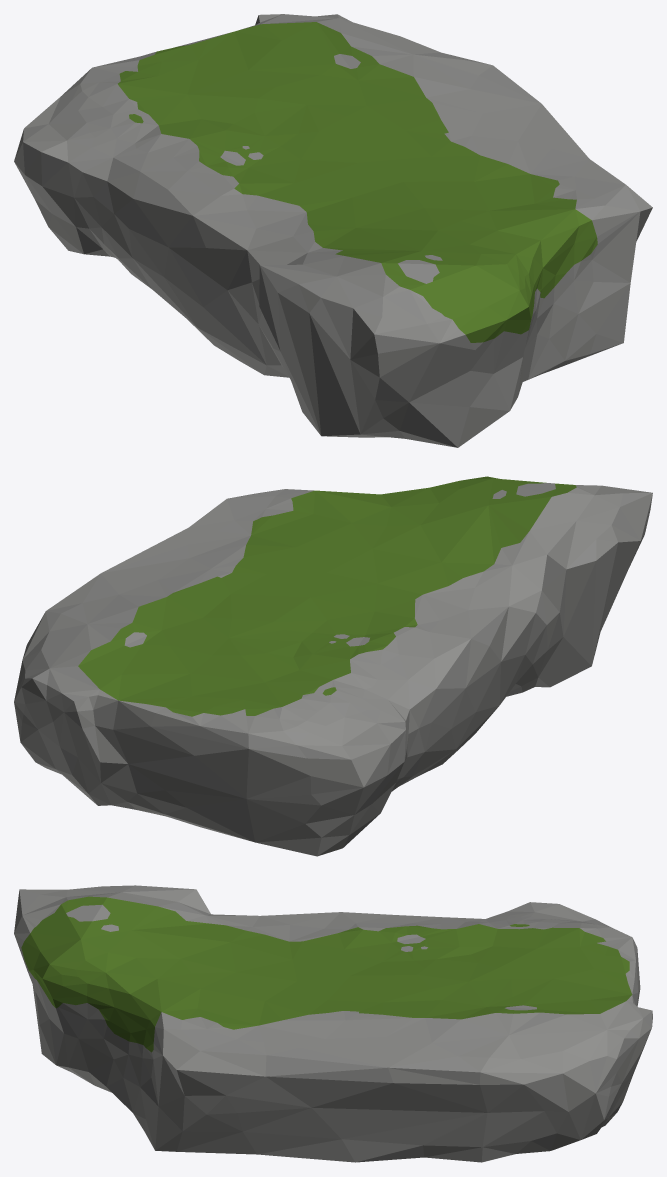
Rendered from Cavern_FloorGrass_Wide_Straight-02.fbx.
3 renders of one model, top to bottom at view 1: azimuth 30°, elevation 25°; view 2: azimuth 150°, elevation 25°; view 3: azimuth 270°, elevation 25°, orthographic. The views are drawn at different scales.
Visible parts, largest first — view 1: Cavern_FloorGrass_Wide_Straight-02; view 2: Cavern_FloorGrass_Wide_Straight-02; view 3: Cavern_FloorGrass_Wide_Straight-02.
Part boxes in pixels (bbox=[...]): Cavern_FloorGrass_Wide_Straight-02: bbox=[14, 14, 652, 447]; Cavern_FloorGrass_Wide_Straight-02: bbox=[14, 476, 652, 856]; Cavern_FloorGrass_Wide_Straight-02: bbox=[14, 885, 652, 1162].
Size of the model in its own units: 1348 by 568 by 2079.
Materials: 1 (1 with a texture image).
